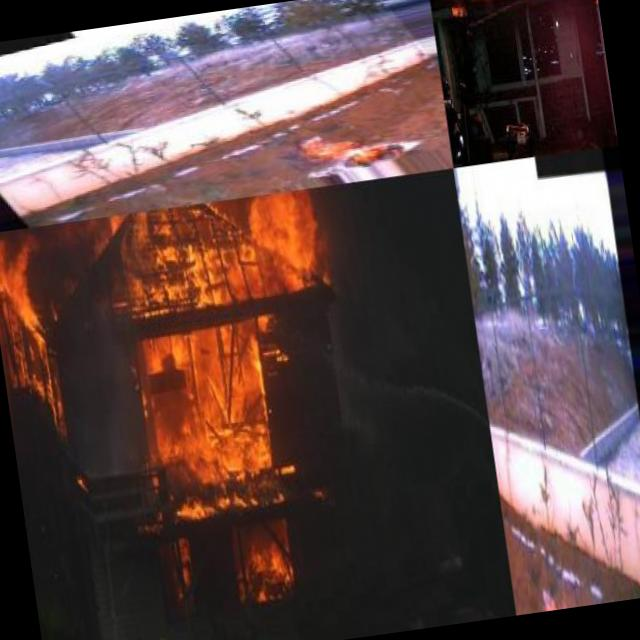fire: (139, 306, 276, 492), (116, 198, 258, 329), (243, 188, 332, 308), (266, 120, 424, 180), (4, 334, 65, 425), (236, 528, 298, 605), (0, 228, 40, 327), (168, 536, 202, 598), (526, 574, 566, 614), (72, 467, 93, 499)
